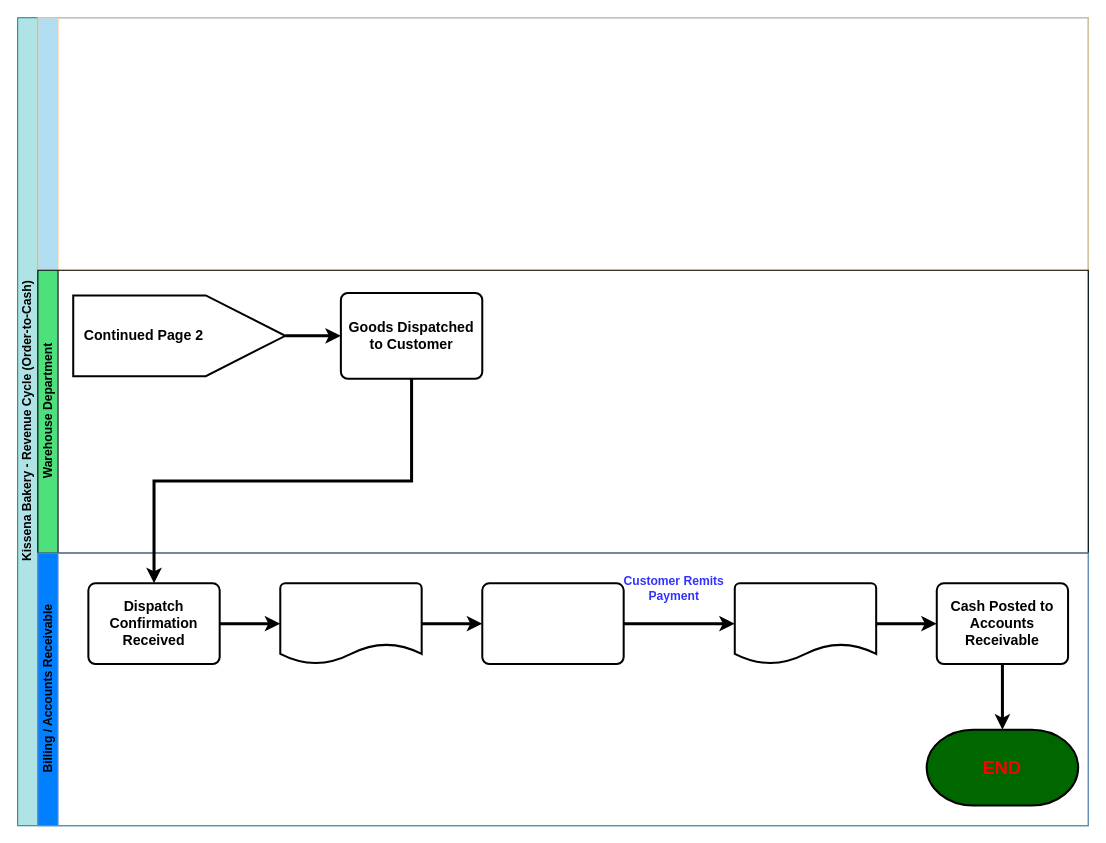
This 1106x843 diagram has some shape labels left out. Here are the shapes that lost their labels. From the top down, the centre of each, then its label:
(x=562, y=143): Sales Department
(x=350, y=623): Invoice Generated & Sent to Customer
(x=552, y=623): Payment Received from Customer
(x=805, y=623): Remittance Advice Recorded
